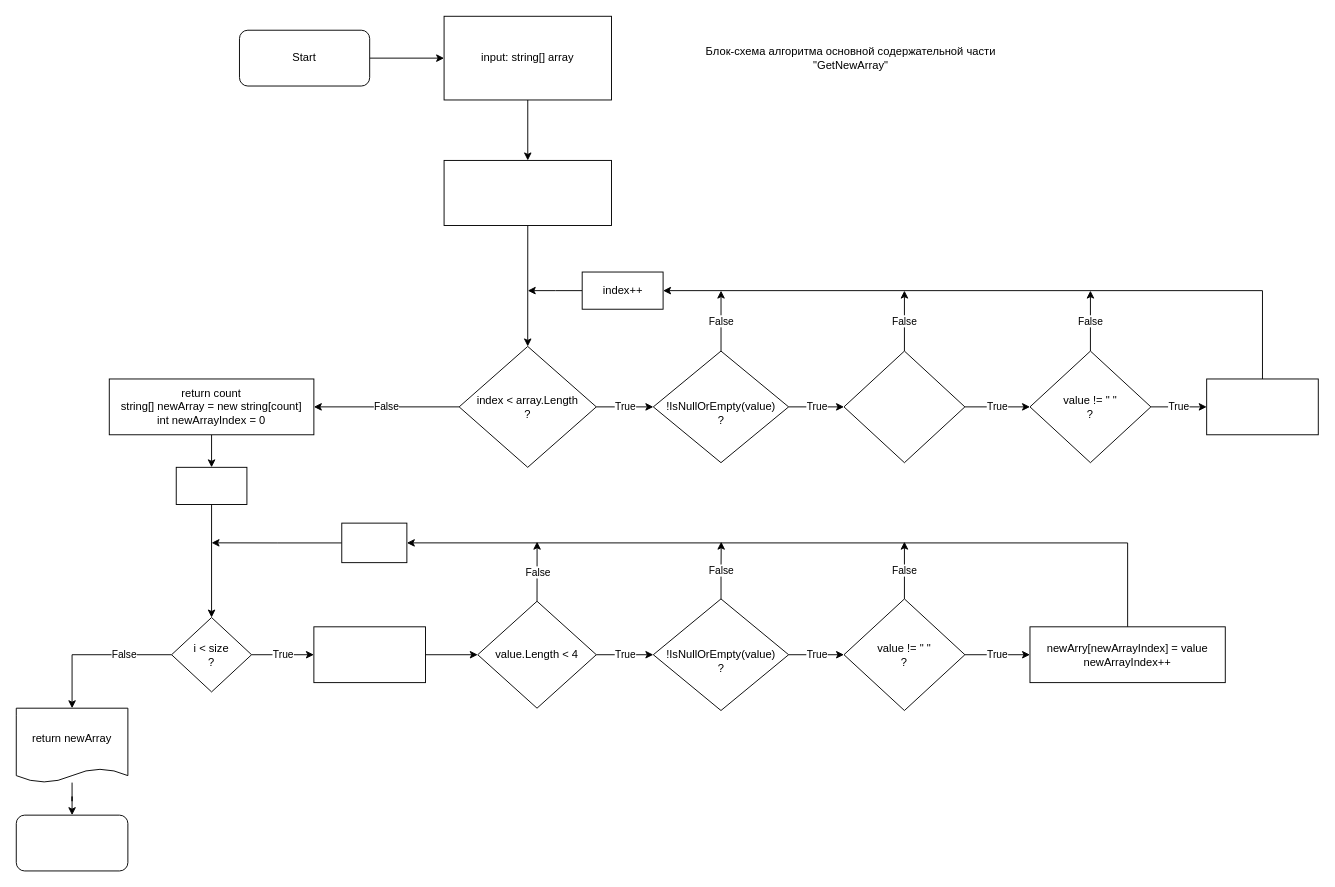
Some shapes in this 1335 by 887 pixel diagram are drawn without their labels. The shapes that lost their labels are listed below. From the top down, each one's box as (x1, y1, x2, y2) in pixels, then its label:
(443, 159, 611, 226): int count = 0 index = 0 value = array[index]
(843, 350, 965, 463): value.Length < 4 ?
(1206, 378, 1318, 435): count++
(175, 466, 247, 505): int i = 0
(341, 522, 407, 563): i++
(313, 626, 425, 683): string value = array[i]
(15, 814, 128, 871): Finish
